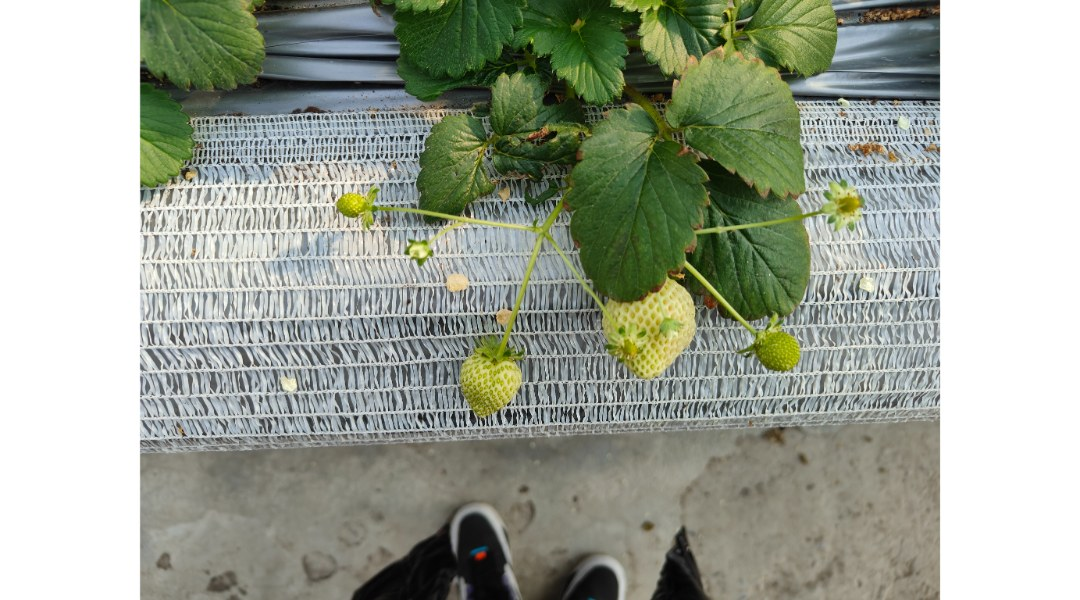berry: (596, 274, 702, 388), (740, 309, 823, 393), (454, 346, 528, 430), (319, 190, 375, 234), (821, 177, 866, 231), (401, 224, 441, 273), (602, 324, 644, 365)
strain: (391, 195, 536, 241), (688, 207, 835, 245), (685, 261, 752, 336), (502, 243, 540, 344), (556, 245, 607, 311), (542, 198, 567, 220)
